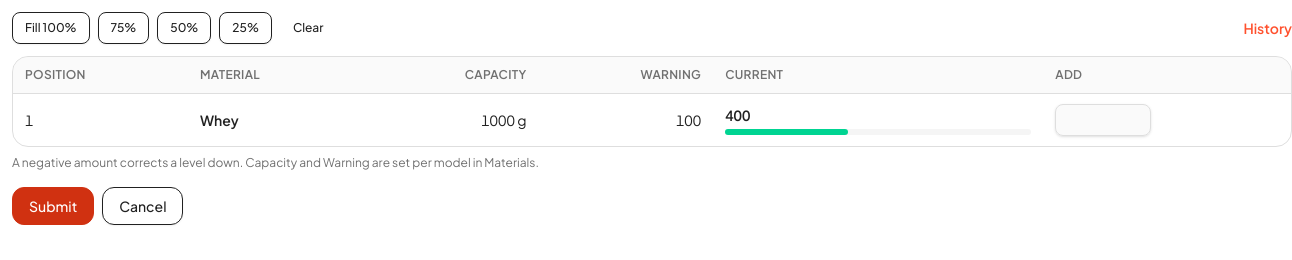
Test: MachineStockTab › fills to capacity and shows the new level
Expected: the row with test id "row-slot-s1" is shown, [13,94,1291,146]
Click the button with test id "button-fill-100": (51, 28) [12,12,90,44]
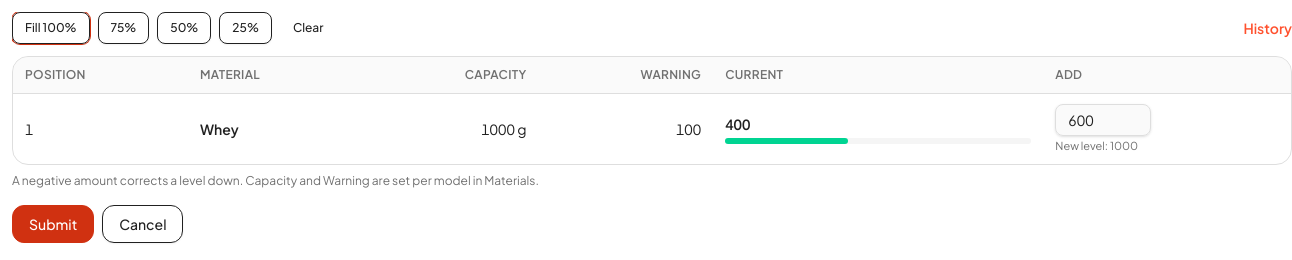
Expected: the field with test id "add-s1" holds "600", [1055,104,1151,136]
Expected: the text with test id "new-level-s1" reads "New level: 1000", [1055,139,1138,152]
